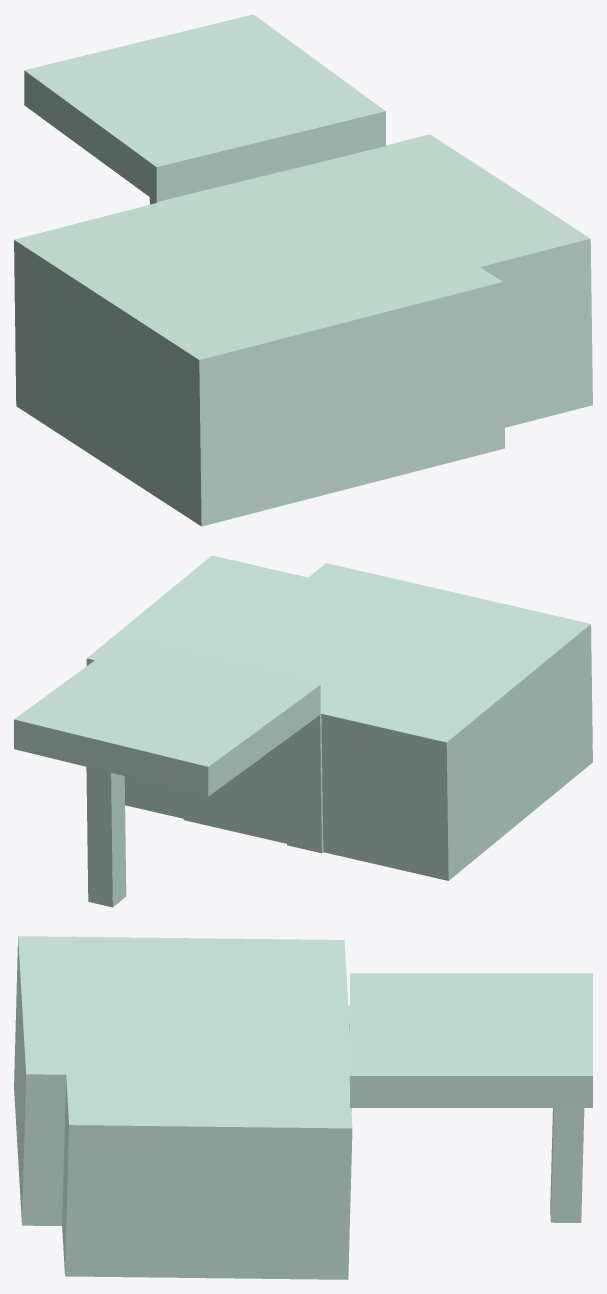
The picture shows the model from 3 angles, top to bottom: view 1: azimuth 30°, elevation 25°; view 2: azimuth 150°, elevation 25°; view 3: azimuth 270°, elevation 25°; orthographic projection. The views are drawn at different scales.
Parts seen in each view (by area): view 1: Renderer Node; view 2: Renderer Node; view 3: Renderer Node.
Boxes of the visible parts, bbox=[...] form: Renderer Node: bbox=[14, 14, 592, 526]; Renderer Node: bbox=[14, 555, 592, 907]; Renderer Node: bbox=[14, 936, 592, 1279].
Bounding box in the file's own units: 1.4 × 0.6248 × 1.79.
